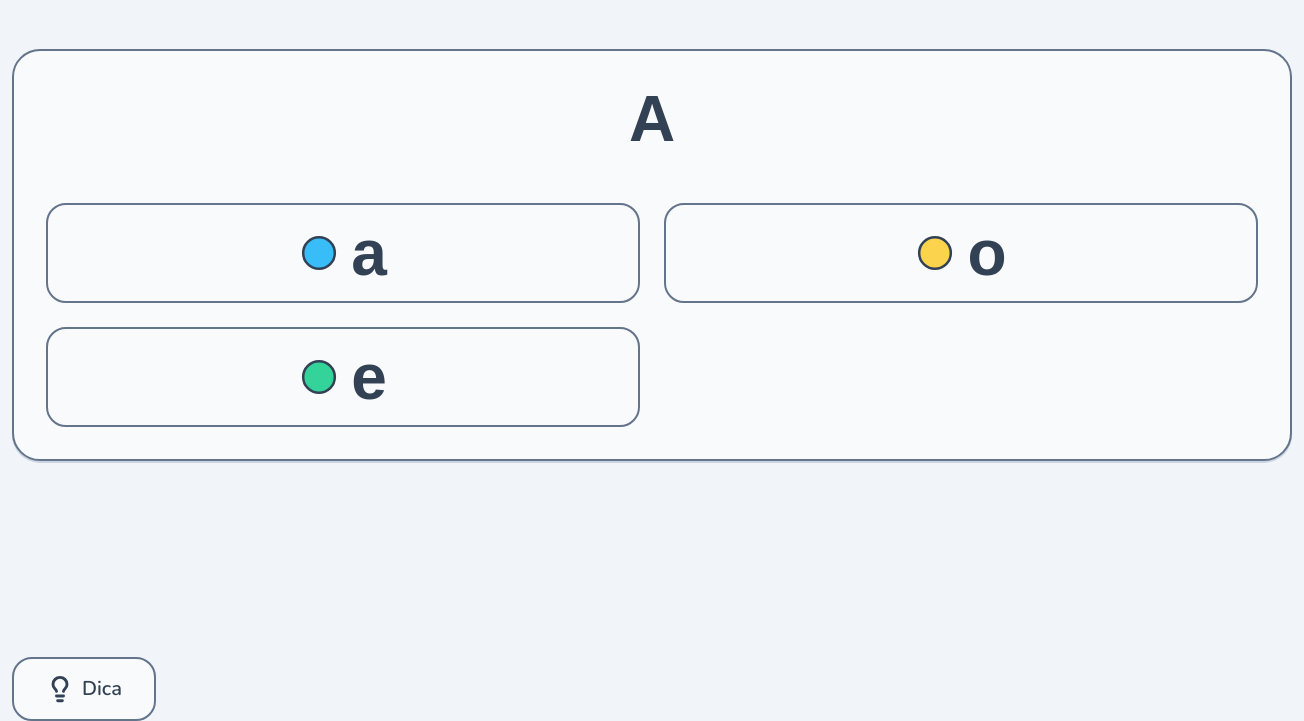
Test case: ActivityRunner — fluxo da criança › estilo 'só cores': mesma forma em todas, a dica diz a cor
This screenshot has width=1304, height=721.
Click the button "Dica": (84, 689) [12,657,156,720]
(page scrolled)
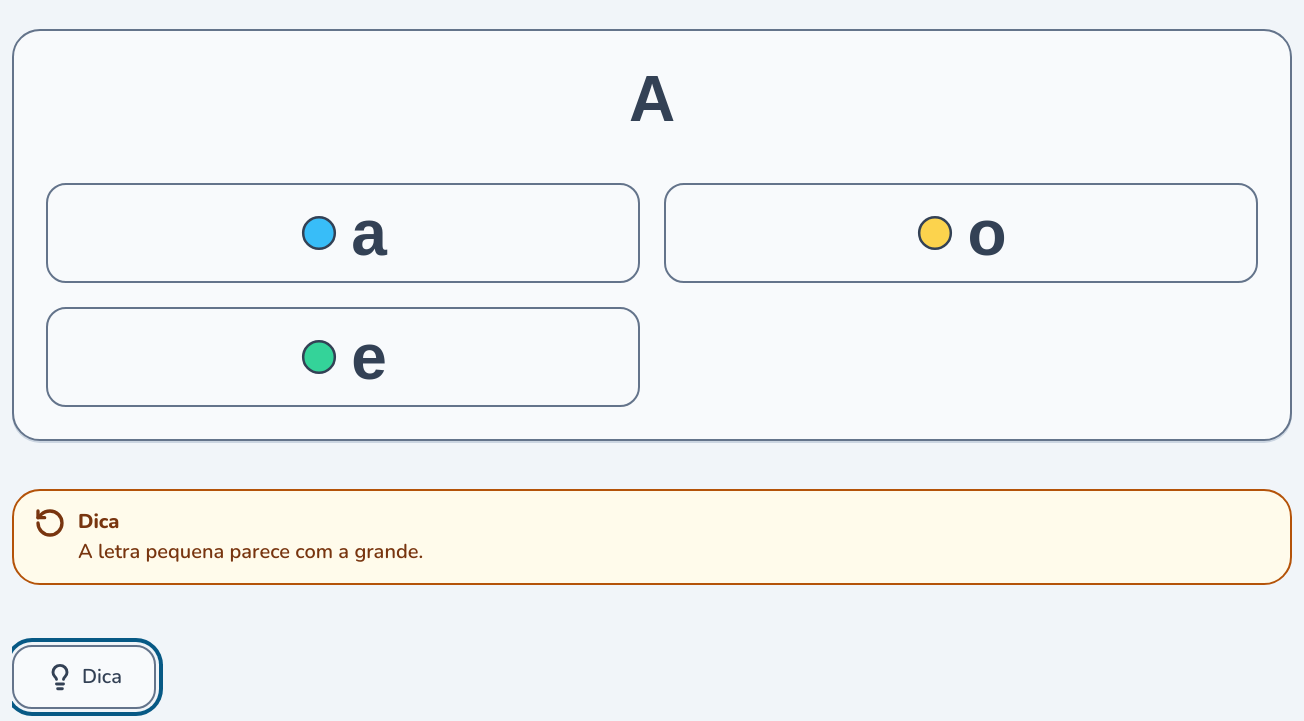
Click the button "Dica": (84, 677) [12,645,156,709]
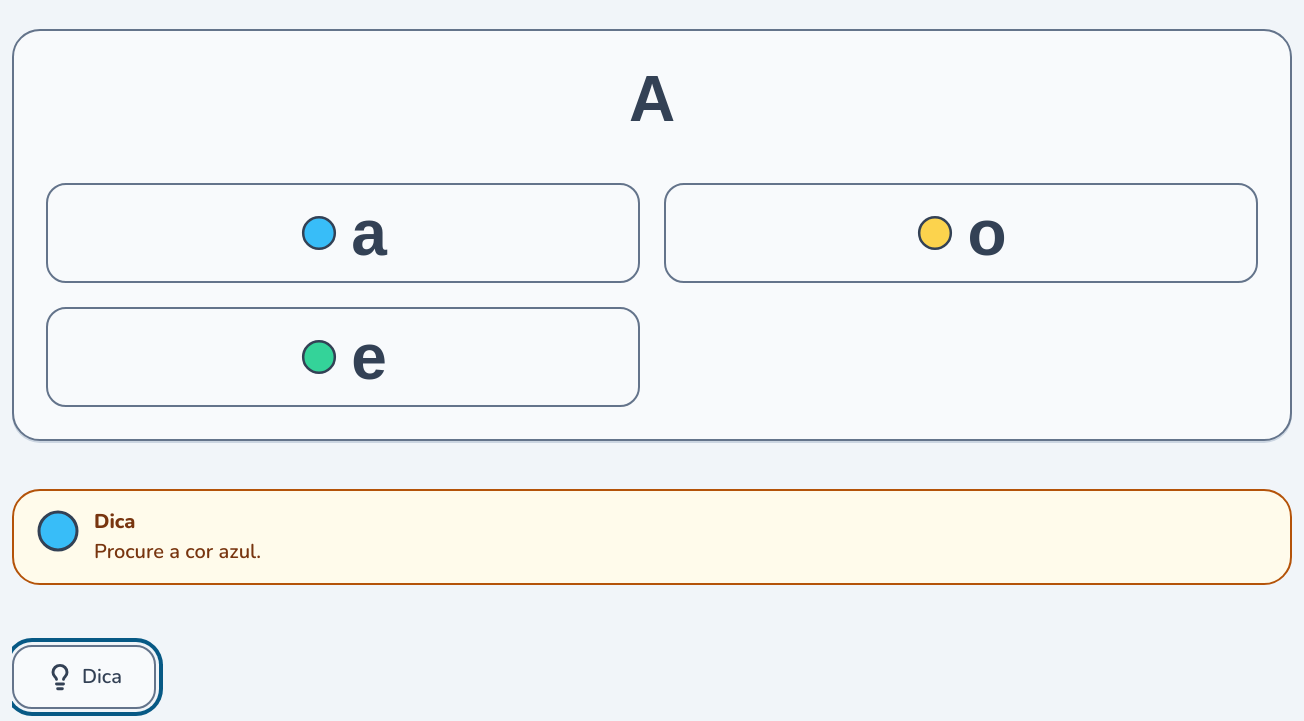
Check: the message shows "Procure a cor azul.", box [94,538,261,565]
